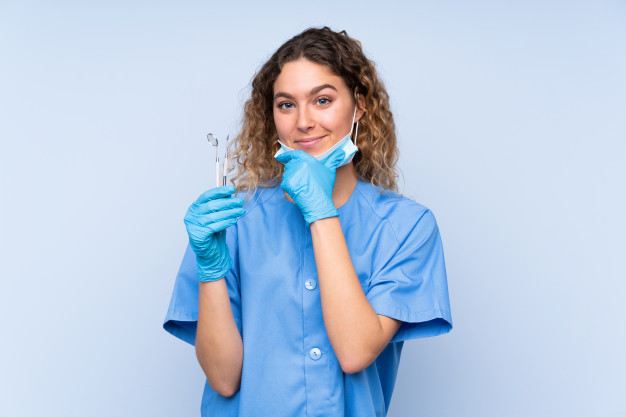mask_weared_incorrect: (265, 54, 368, 183)
